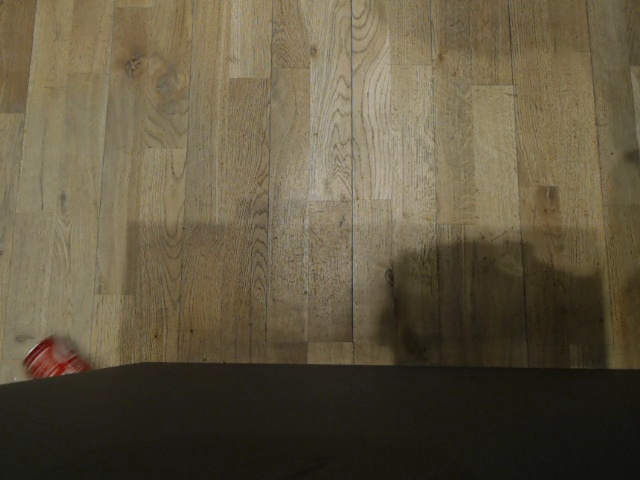cola: (18, 336, 90, 380)
